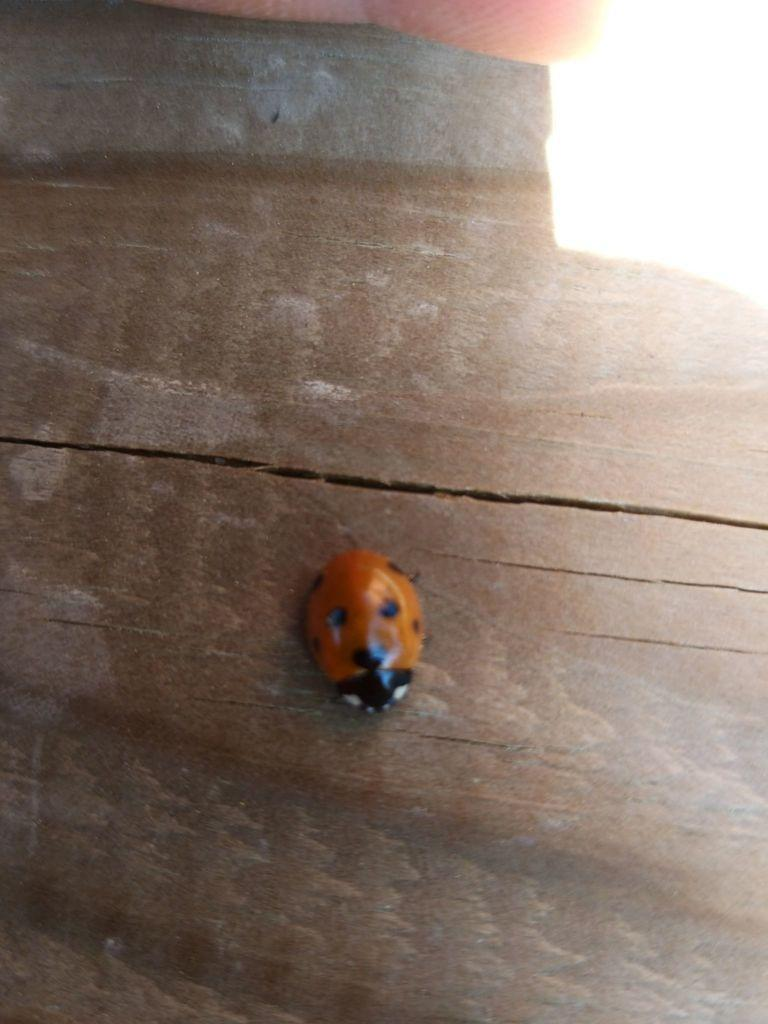ladybug: (296, 544, 431, 721)
